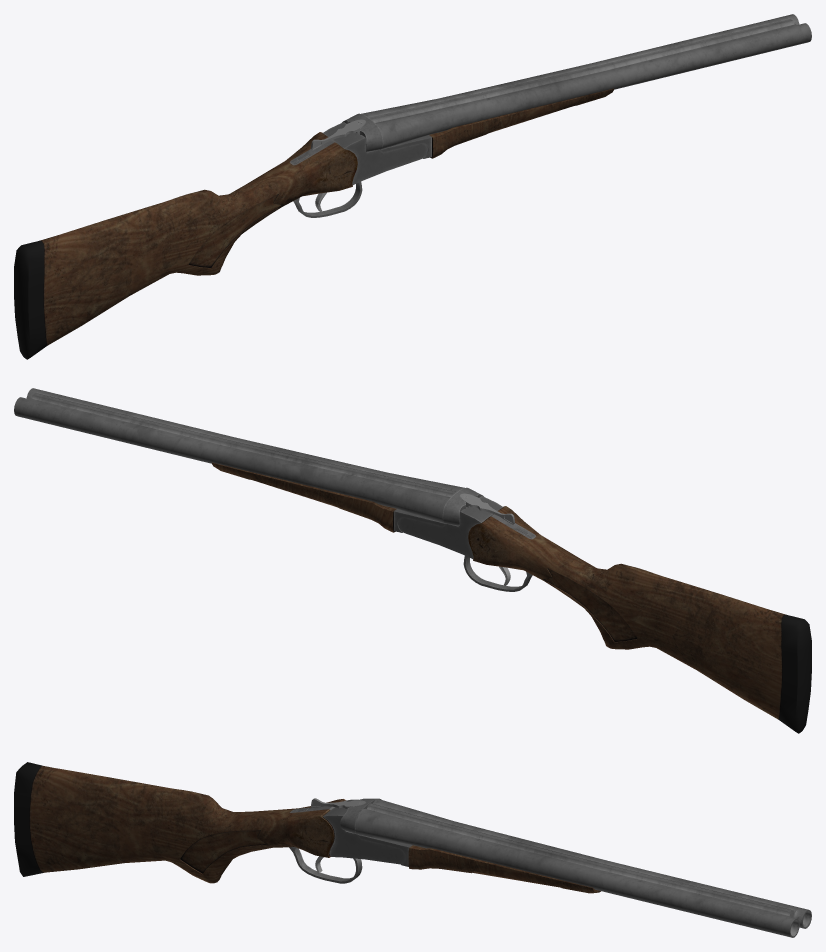
Rendered from dbl.glb.
3 views of the same model, one above another, from view 1: azimuth 30°, elevation 25°; view 2: azimuth 150°, elevation 25°; view 3: azimuth 330°, elevation 25° (orthographic).
Visible parts, largest first — view 1: stock_low, barrel_low, forearm_low, chambers_low; view 2: stock_low, barrel_low, forearm_low, chambers_low; view 3: stock_low, barrel_low, forearm_low, chambers_low, release_low.
Part boxes in pixels (x1,y1,x2,y2): stock_low: (14,122,427,359); barrel_low: (361,14,811,149); forearm_low: (379,88,613,158); chambers_low: (342,113,383,151); stock_low: (398,496,811,733); barrel_low: (14,388,464,523); forearm_low: (212,462,446,532); chambers_low: (442,487,483,525); stock_low: (14,762,405,883); barrel_low: (355,799,811,937); forearm_low: (357,834,600,893); chambers_low: (340,798,381,833); release_low: (311,798,365,808).
Bounding box in the file's own units: 1.67 × 0.3182 × 0.1046.
Materials: 6 (6 with a texture image).
